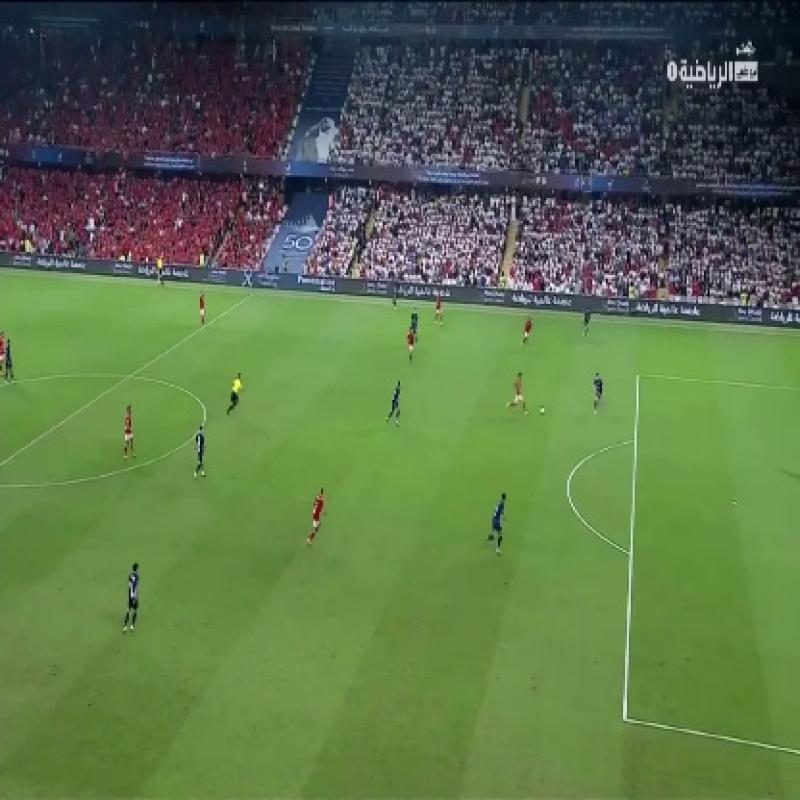10: (628, 430, 638, 444)
11: (625, 546, 635, 560)
12: (607, 700, 646, 739)
13: (242, 288, 262, 302)
14: (123, 370, 135, 382)
9: (632, 368, 642, 380)
c: (189, 426, 205, 444)
